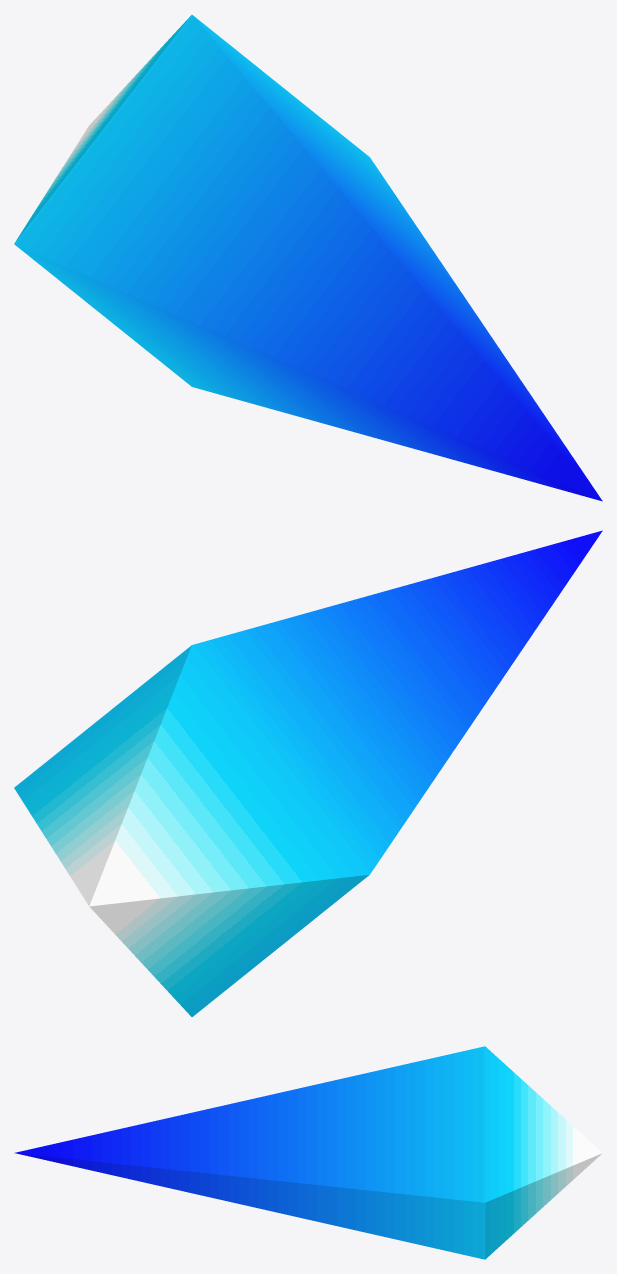
Rendered from Blue.glb.
3 renders of one model, top to bottom at view 1: azimuth 30°, elevation 25°; view 2: azimuth 150°, elevation 25°; view 3: azimuth 270°, elevation 25°, orthographic. The views are drawn at different scales.
Parts seen in each view (by area): view 1: Blue; view 2: Blue; view 3: Blue.
Boxes of the visible parts, x1,y1,x2,y2 form: Blue: [14, 15, 602, 501]; Blue: [14, 530, 602, 1016]; Blue: [15, 1046, 602, 1259].
Size of the model in its own units: 2 by 2 by 5.
1 material, 1 textured.
